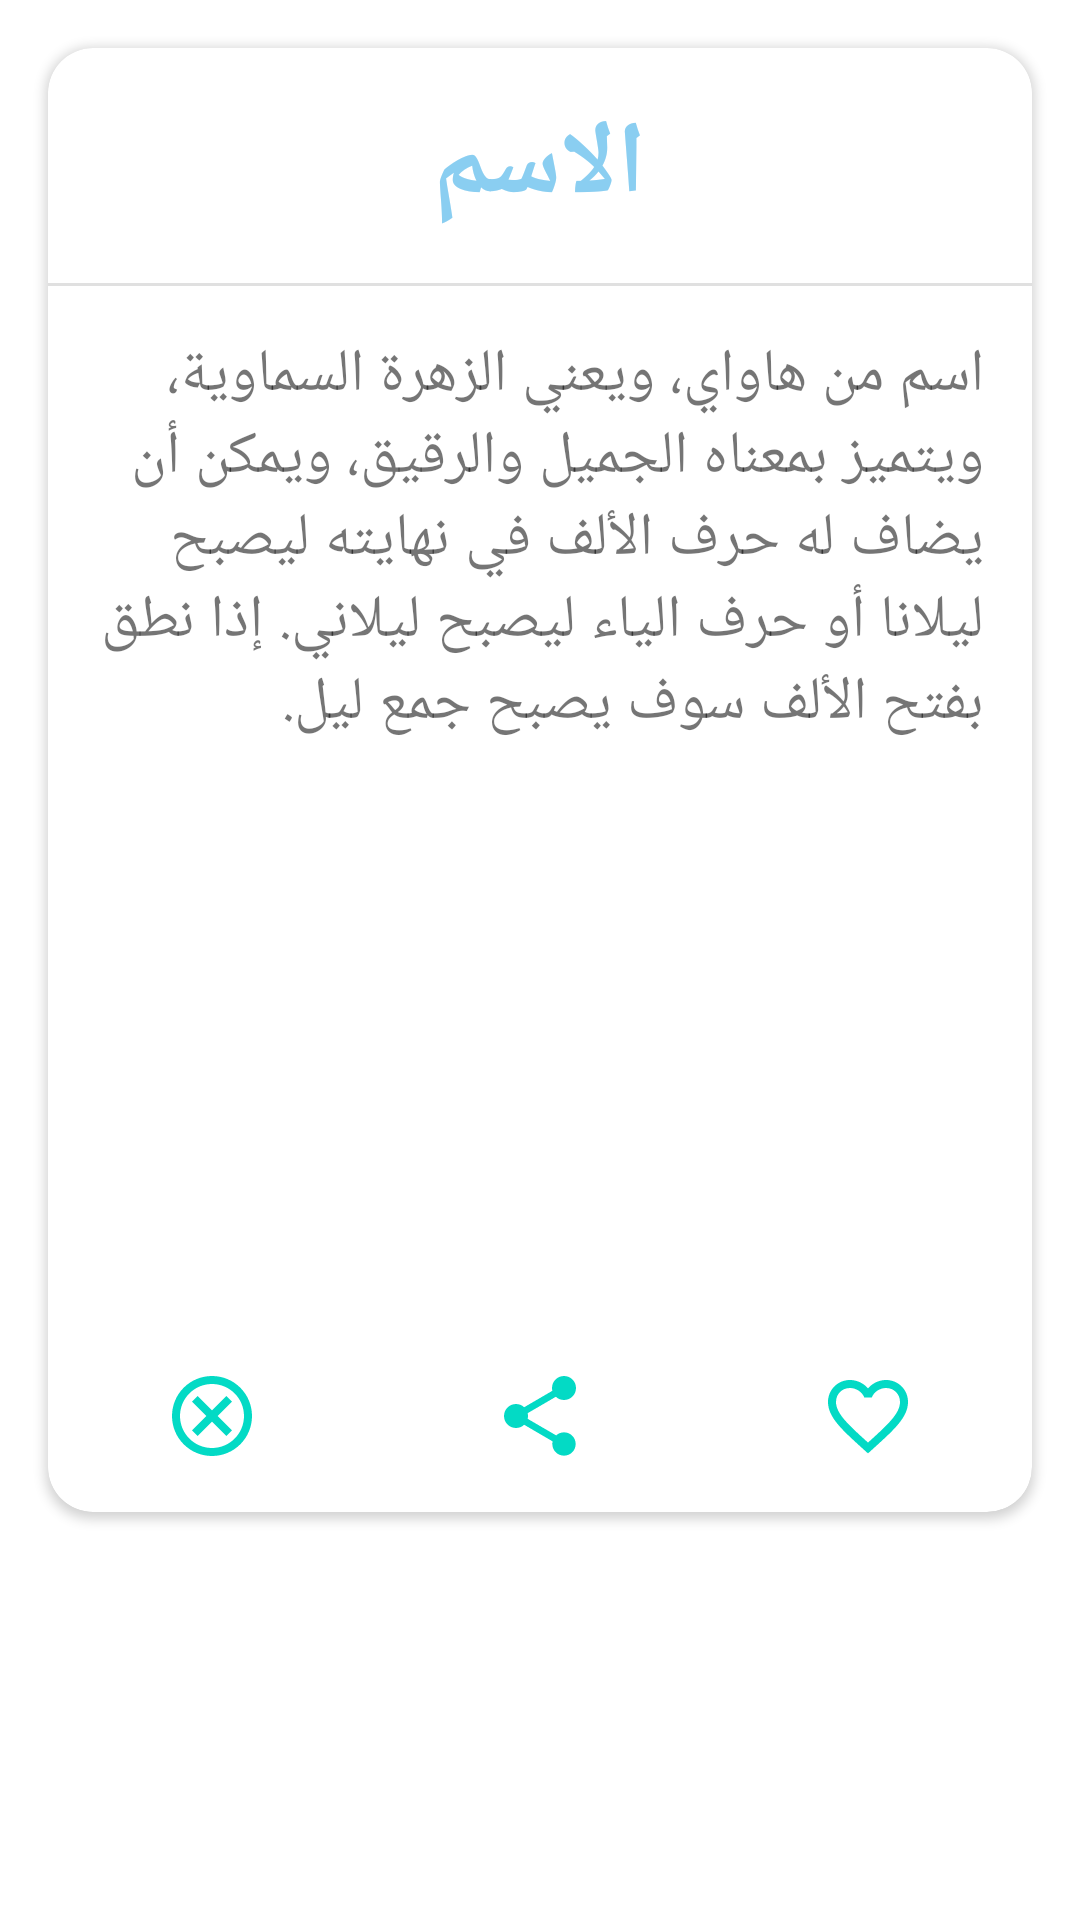

Named icons in this screenshot (1080px×1920px) and their centers, (x=x, y=y):
cancel: (x=212, y=1416)
favorite border: (x=868, y=1416)
share: (x=540, y=1416)
